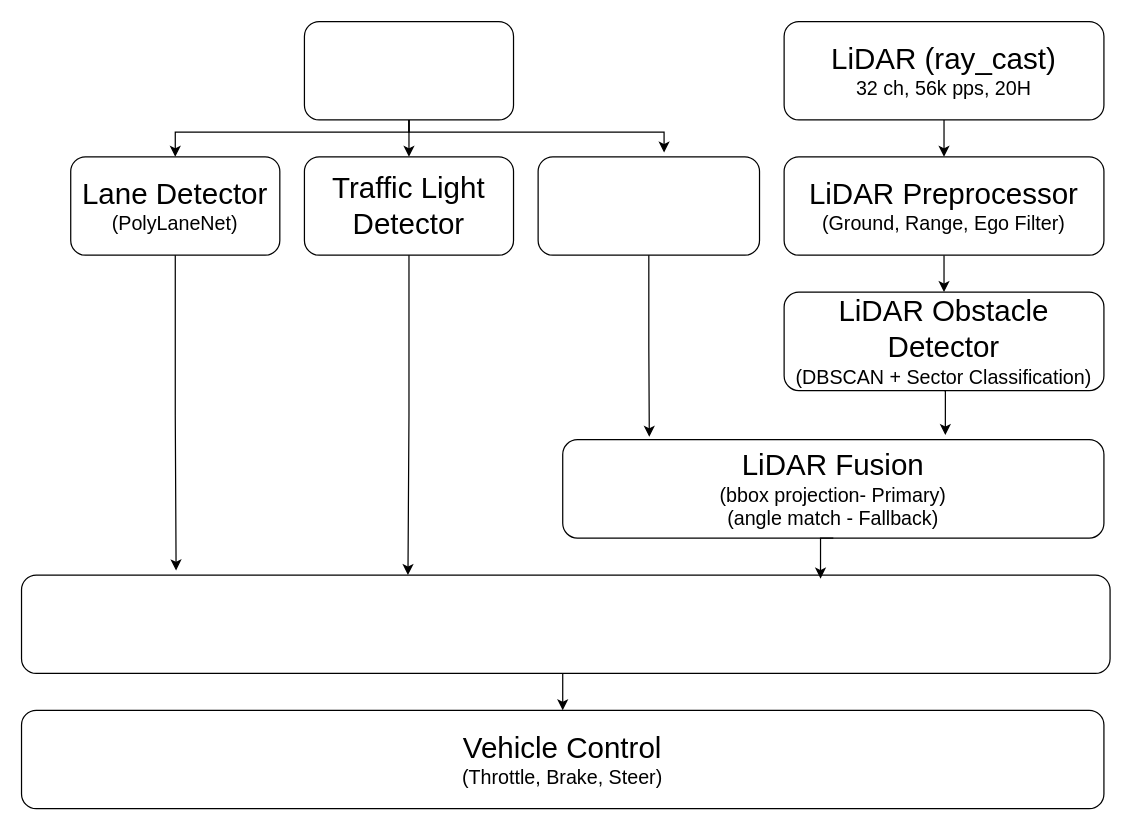
The diagram is 1132 pixels wide and 830 high, and some of its shapes have lost their labels. Each missing label, with the box of its shape:
Driving Agent (making control decision): (20, 574, 1110, 673)
Obstacle Detect (YOLO11n): (537, 156, 760, 255)
RGB Camera: (303, 20, 514, 120)
